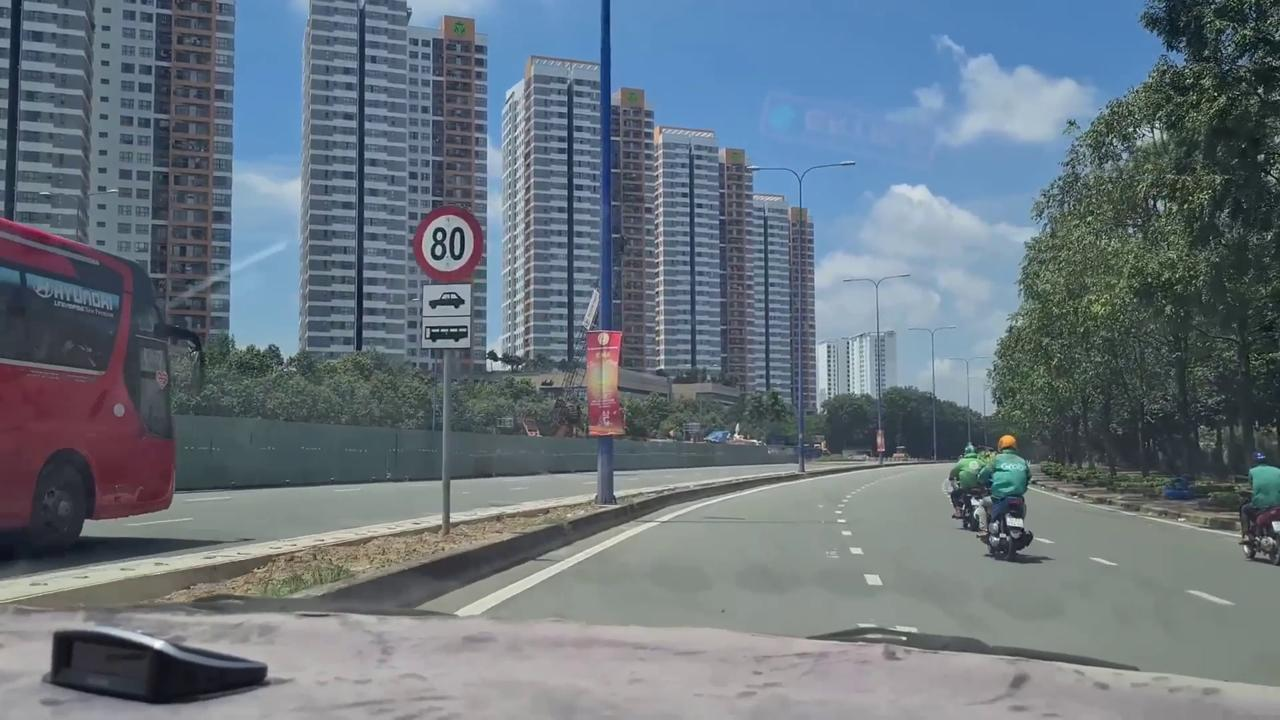Biển phụ: (421, 283, 472, 350)
Giới hạn tốc độ 80Km/h: (412, 202, 486, 285)
